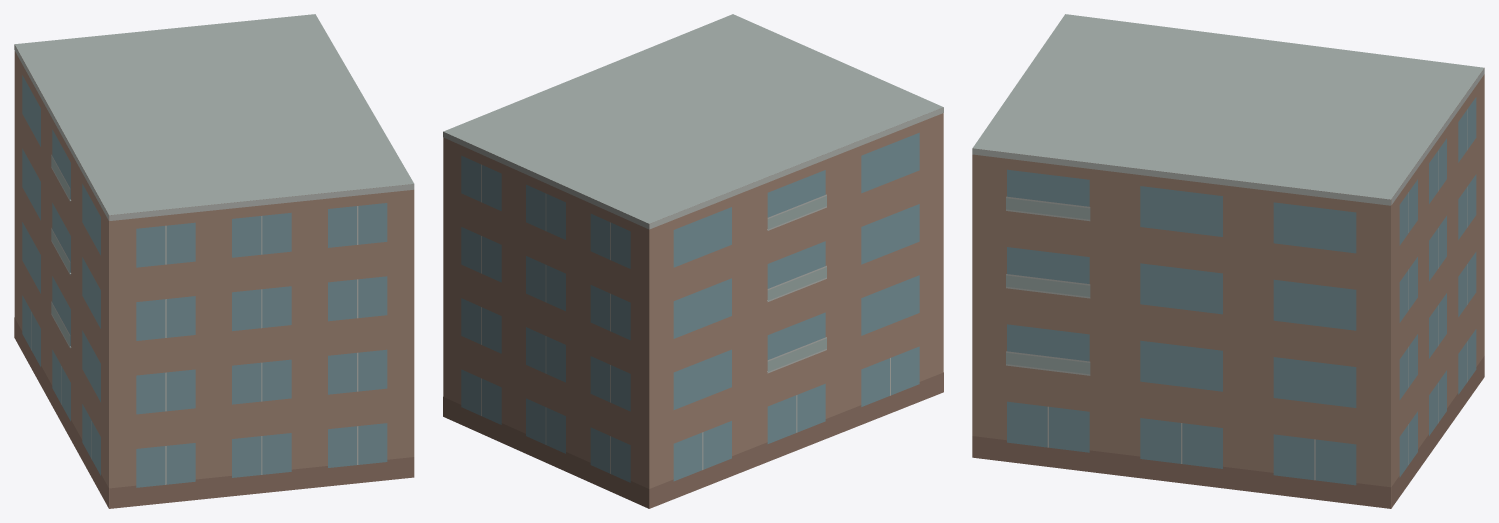
File: survey-upis-32816358.glb
3 renders of one model, left to right at view 1: azimuth 30°, elevation 25°; view 2: azimuth 150°, elevation 25°; view 3: azimuth 270°, elevation 25°, orthographic. The views are drawn at different scales.
Visible parts, largest first — view 1: survey-upis-32816358.tmp; view 2: survey-upis-32816358.tmp; view 3: survey-upis-32816358.tmp.
Part boxes in pixels (left/top/right/bottom): survey-upis-32816358.tmp: left=14, top=14, right=414, bottom=508; survey-upis-32816358.tmp: left=443, top=14, right=943, bottom=508; survey-upis-32816358.tmp: left=972, top=14, right=1484, bottom=508.
Size of the model in its own units: 15.71 by 12.2 by 18.32.
